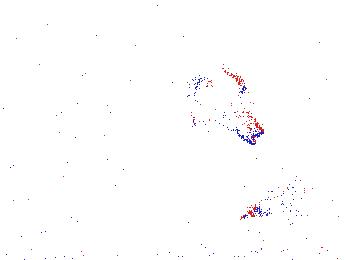flame jellyfish: (186, 67, 265, 146), (278, 172, 346, 230), (240, 167, 306, 221)
